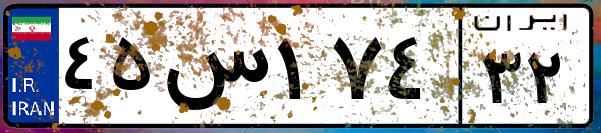1: (270, 28, 330, 110)
2: (525, 38, 570, 115)
3: (475, 38, 525, 113)
4: (385, 28, 445, 110), (57, 26, 110, 100)
5: (110, 28, 158, 98)
7: (330, 28, 385, 110)
س: (158, 20, 270, 120)
